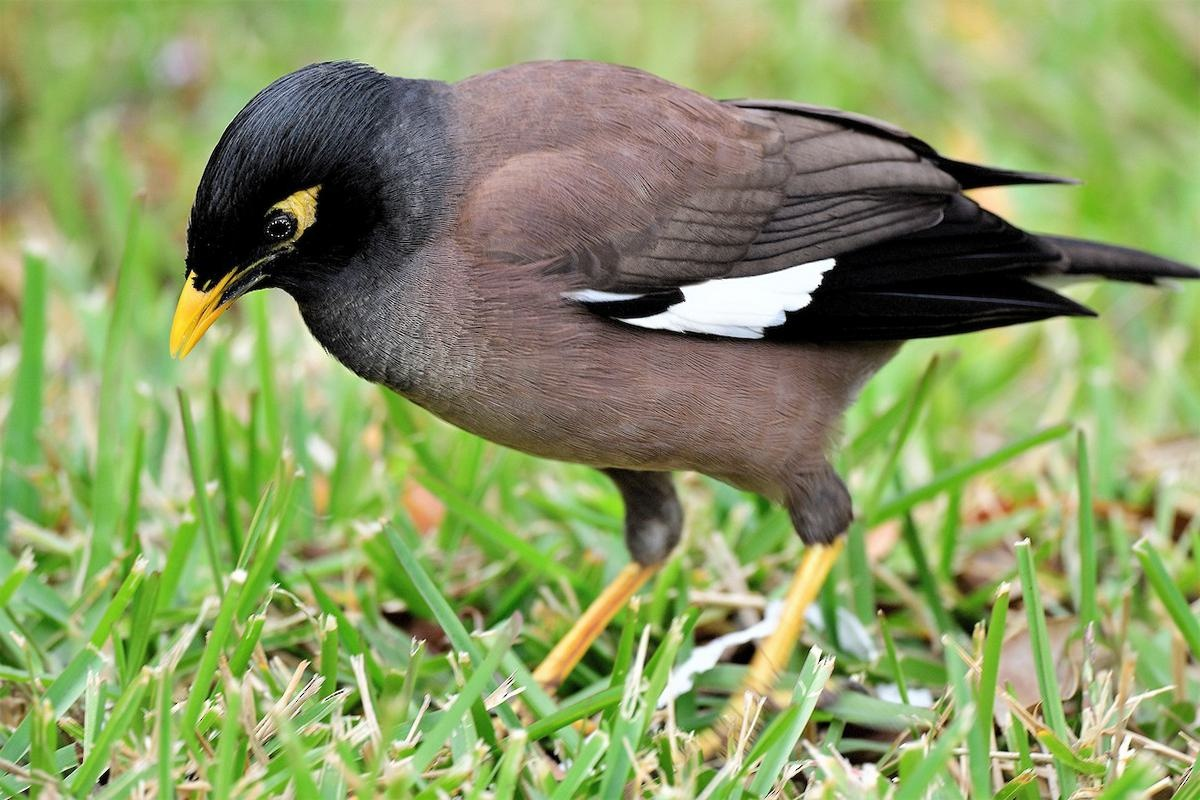myna: (189, 48, 1054, 634)
